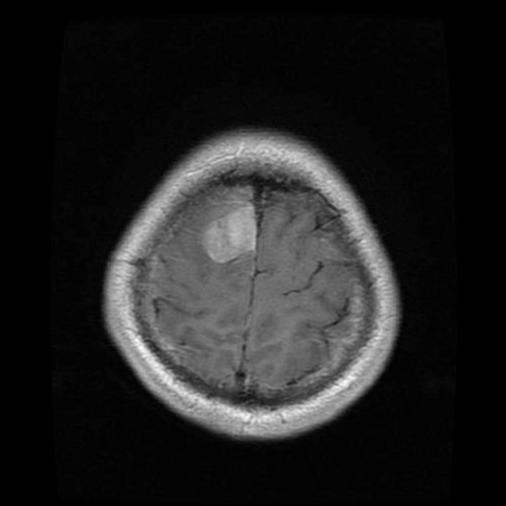Tumour-Meningioma: (192, 196, 269, 275)
